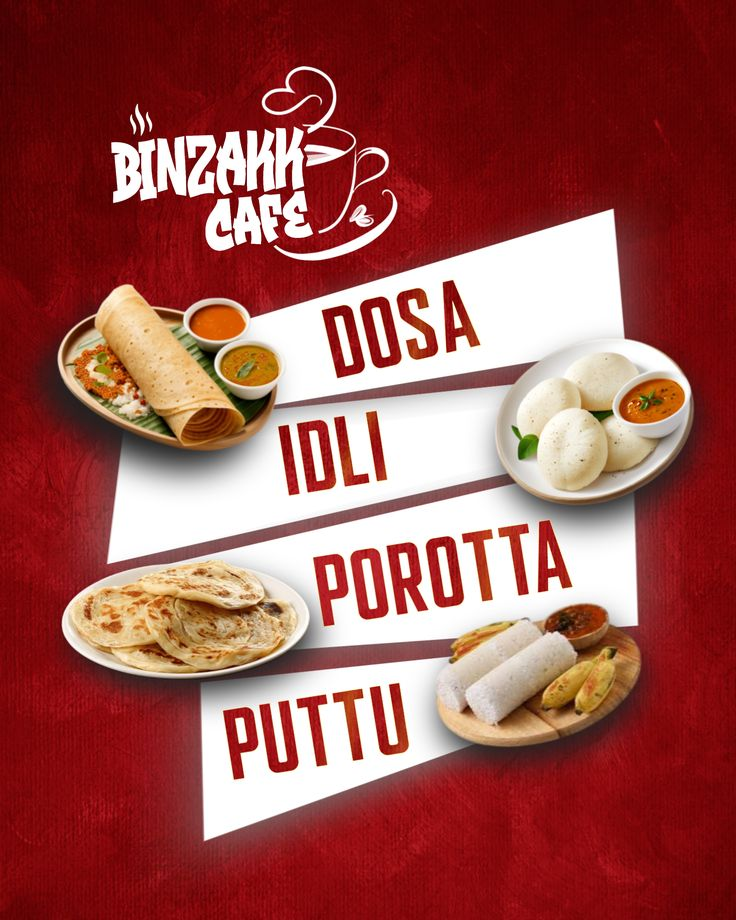Headline: (218, 276, 576, 781)
Product: (46, 278, 699, 784)
logo: (44, 52, 437, 269)
